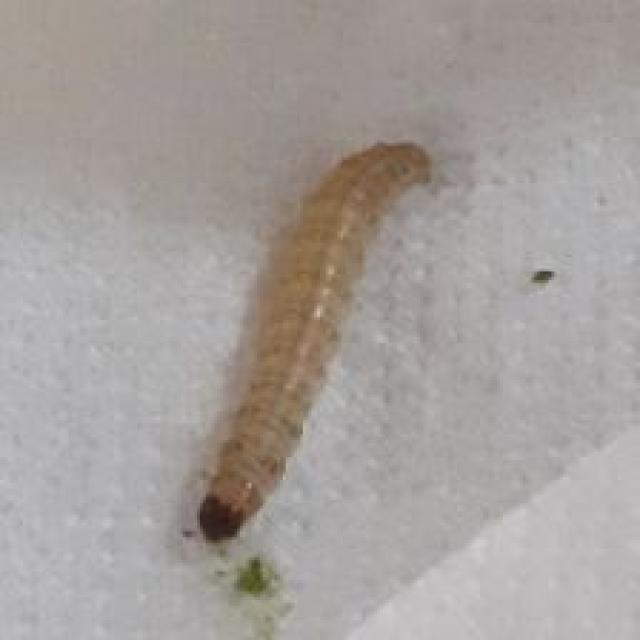white mucus: (147, 116, 489, 555)
